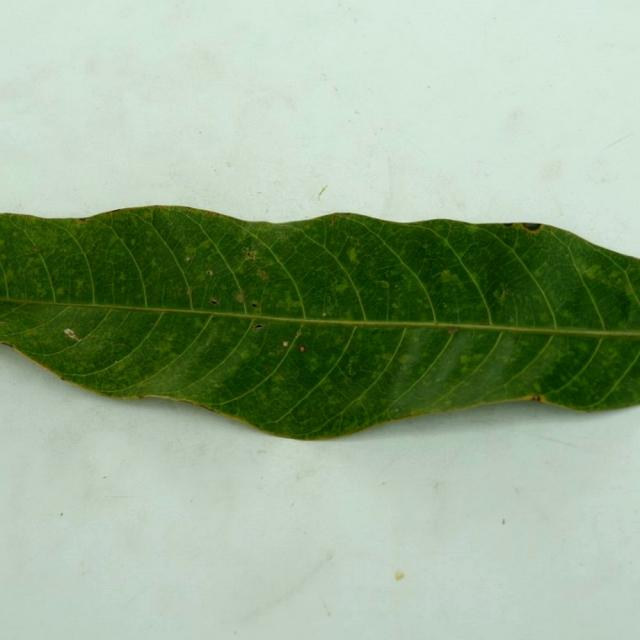Mango: (0, 206, 639, 439)
Powdery_Mildew: (492, 285, 513, 308), (618, 294, 634, 320), (437, 269, 459, 285), (582, 264, 602, 279), (344, 247, 359, 264), (36, 282, 50, 298), (333, 280, 350, 293), (4, 268, 17, 284), (531, 379, 545, 393), (75, 280, 86, 297), (533, 266, 547, 279), (560, 309, 574, 321), (398, 354, 413, 364), (183, 246, 196, 257), (492, 289, 503, 301), (459, 363, 471, 374), (257, 269, 268, 281), (459, 354, 472, 364), (624, 284, 635, 295), (292, 300, 304, 310), (273, 373, 285, 382), (379, 280, 390, 289), (236, 292, 245, 303), (239, 350, 250, 359), (117, 272, 127, 281), (202, 241, 212, 250), (443, 398, 454, 406), (56, 287, 65, 296), (32, 246, 40, 253), (186, 288, 192, 297), (422, 243, 429, 250), (130, 238, 136, 246), (392, 303, 399, 309), (206, 270, 213, 276)
